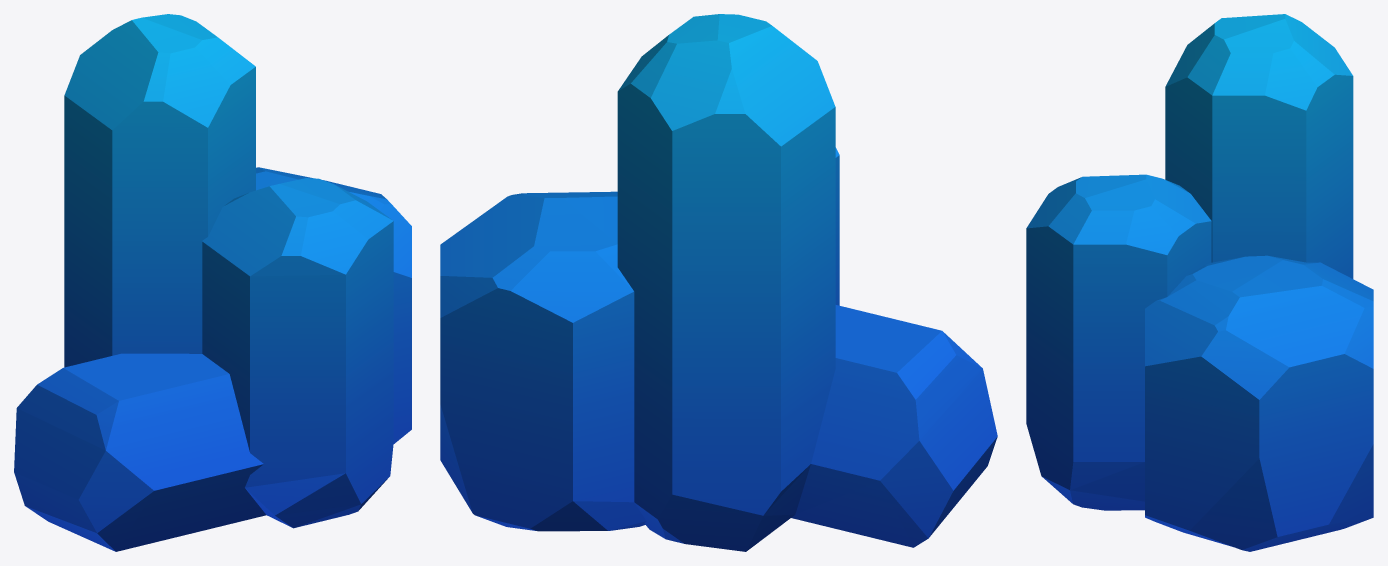
Rendered from crystal_18.glb.
3 views of the same model, side by side, from view 1: azimuth 30°, elevation 25°; view 2: azimuth 150°, elevation 25°; view 3: azimuth 270°, elevation 25° (orthographic). The views are drawn at different scales.
Parts seen in each view (by area): view 1: crystal_18; view 2: crystal_18; view 3: crystal_18.
Boxes of the visible parts, left/top/right/bottom form: crystal_18: left=14, top=14, right=411, bottom=551; crystal_18: left=440, top=14, right=997, bottom=551; crystal_18: left=1026, top=14, right=1373, bottom=551.
Size of the model in its own units: 5.12 by 5.19 by 3.69.
1 material, 1 textured.
